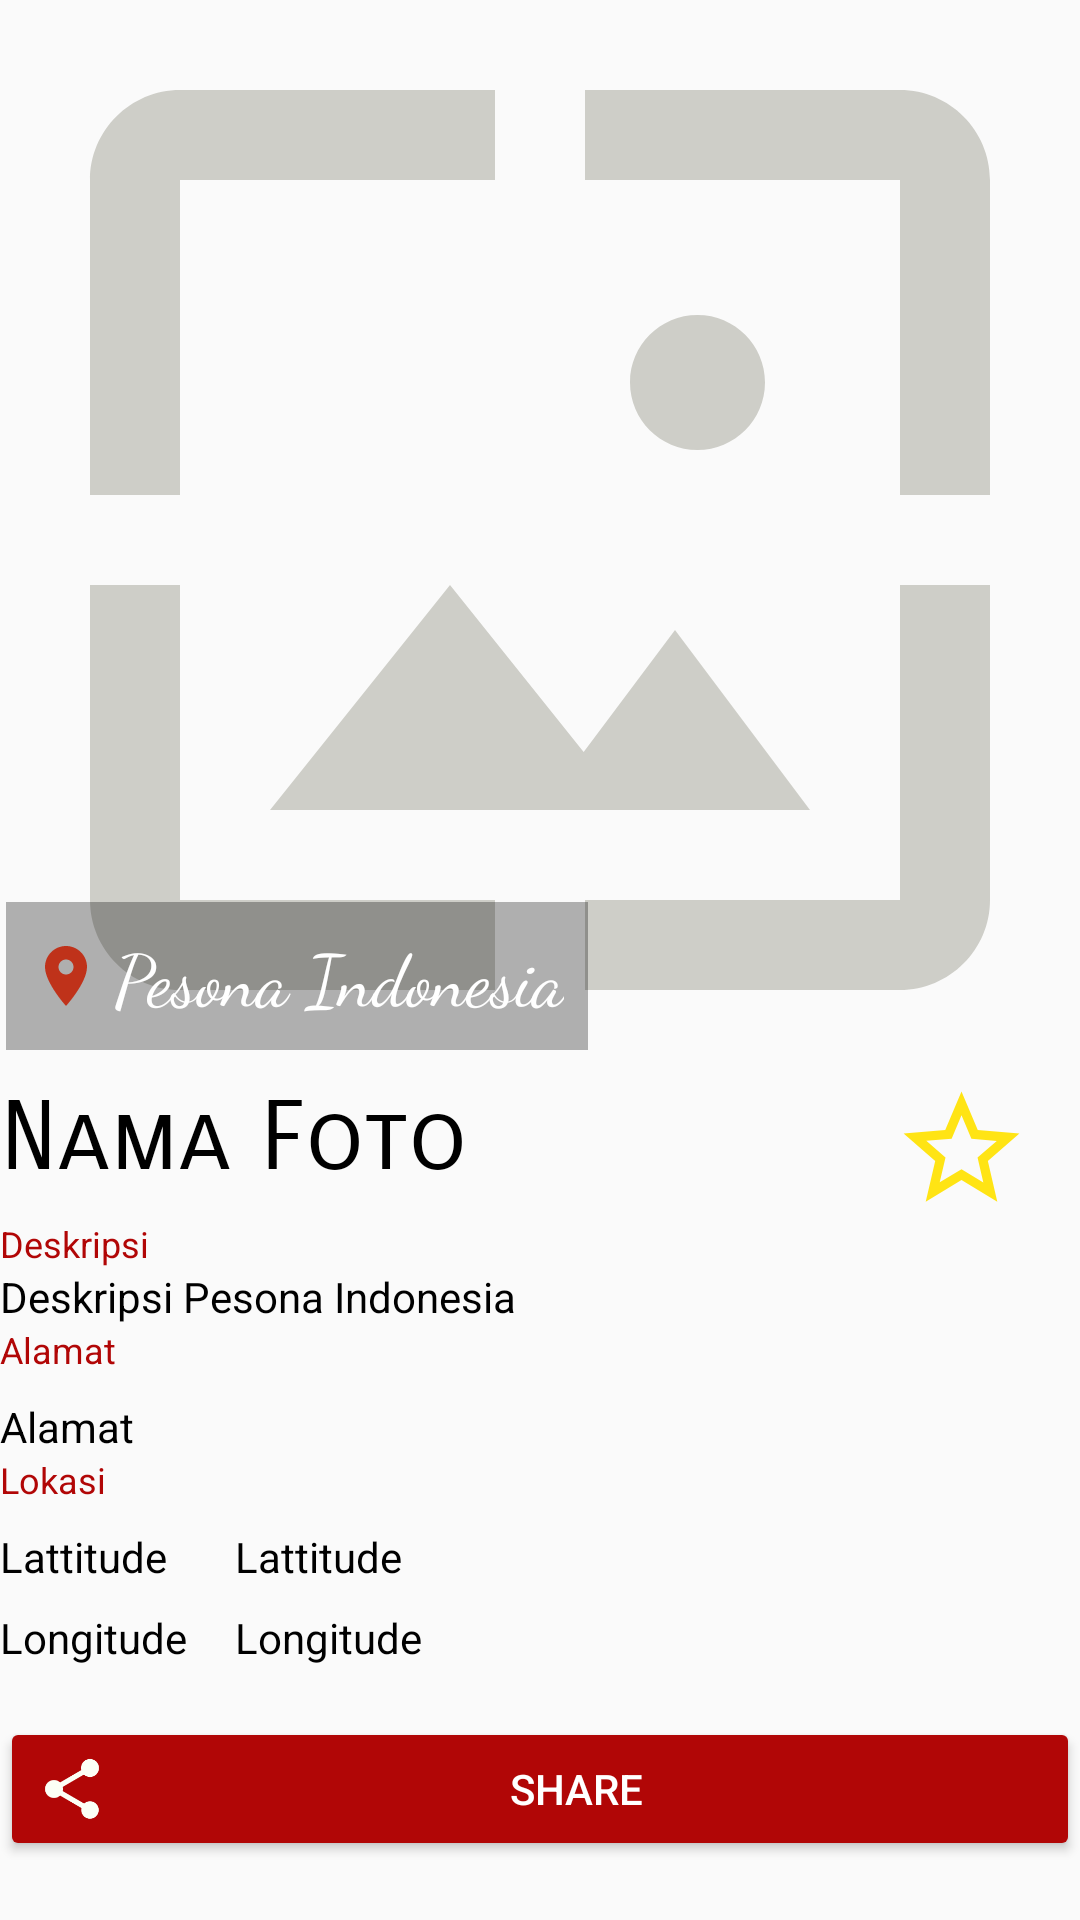

Where to tap for icons on this 1080*1920 app screen, as [x,y]:
star: [961,1147]
